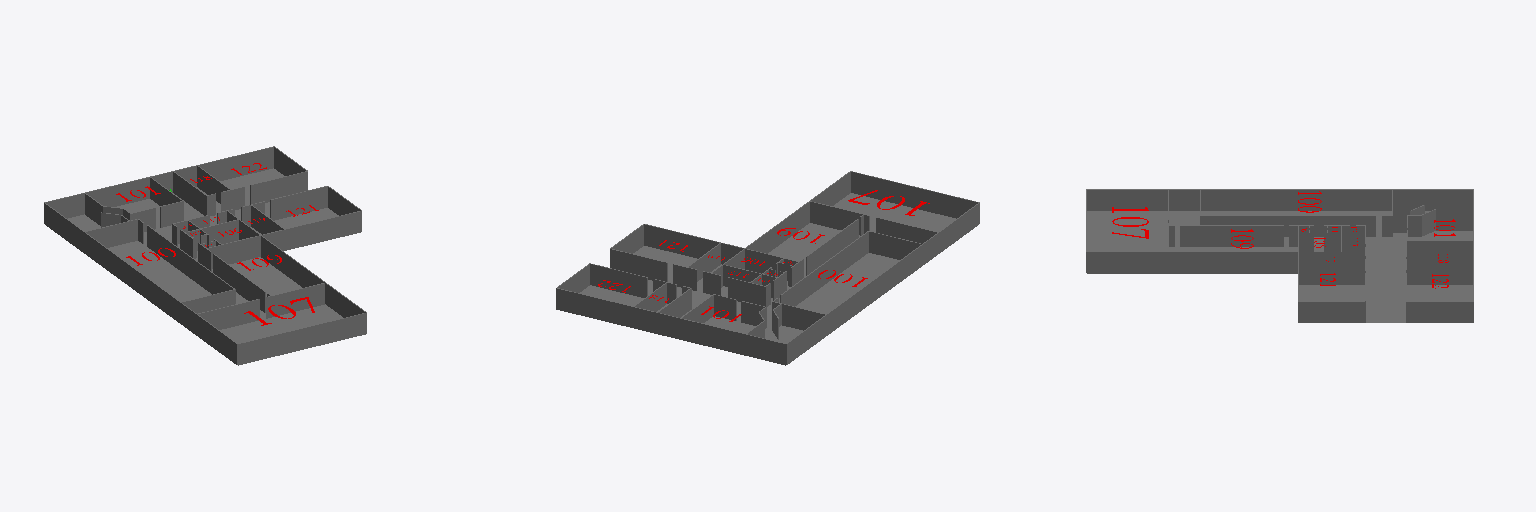
Rendered from sage1.obj.
3 views of the same model, side by side, from view 1: azimuth 30°, elevation 25°; view 2: azimuth 150°, elevation 25°; view 3: azimuth 270°, elevation 25° (orthographic).
Parts seen in each view (by area): view 1: surface, pCube7, pCube9, pCube5, pCube8, pCube10, pCube36, pCube6, pCube16, pCube17, pCube27, pCube28 (+6 smaller); view 2: surface, pCube7, pCube8, pCube9, pCube6, pCube36, pCube10, pCube5, pCube17, pCube16, pCube27, pCube31 (+7 smaller); view 3: surface, pCube7, pCube10, pCube31, pCube36, pCube2, pCube4, pCube19, pCube3, pCube44, pCube21, pCube37 (+2 smaller).
Boxes of the visible parts, <box> form: surface: <box>68,168,342,343</box>; pCube7: <box>44,203,237,364</box>; pCube9: <box>238,313,366,365</box>; pCube5: <box>236,211,361,262</box>; pCube8: <box>44,171,172,218</box>; pCube10: <box>261,235,366,317</box>; pCube36: <box>147,225,235,303</box>; pCube6: <box>174,146,274,186</box>; pCube16: <box>270,186,327,220</box>; pCube17: <box>250,171,307,204</box>; pCube27: <box>266,282,325,318</box>; pCube28: <box>198,299,259,329</box>; surface: <box>580,193,955,343</box>; pCube7: <box>786,203,979,364</box>; pCube8: <box>657,313,785,365</box>; pCube9: <box>851,171,979,218</box>; pCube6: <box>556,288,656,333</box>; pCube36: <box>780,231,868,306</box>; pCube10: <box>745,171,850,253</box>; pCube5: <box>644,224,760,264</box>; pCube17: <box>590,263,647,297</box>; pCube16: <box>610,248,667,281</box>; pCube27: <box>810,201,869,234</box>; pCube31: <box>806,219,858,275</box>; surface: <box>1087,211,1472,322</box>; pCube7: <box>1087,189,1472,210</box>; pCube10: <box>1087,252,1297,273</box>; pCube31: <box>1180,225,1283,246</box>; pCube36: <box>1200,215,1375,236</box>; pCube2: <box>1406,301,1472,322</box>; pCube4: <box>1298,301,1364,322</box>; pCube19: <box>1299,264,1364,284</box>; pCube3: <box>1407,264,1472,284</box>; pCube44: <box>1299,252,1364,263</box>; pCube21: <box>1407,252,1472,263</box>; pCube37: <box>1436,209,1472,230</box>.
Bounding box in the file's own units: 2267 × 200 × 3298.